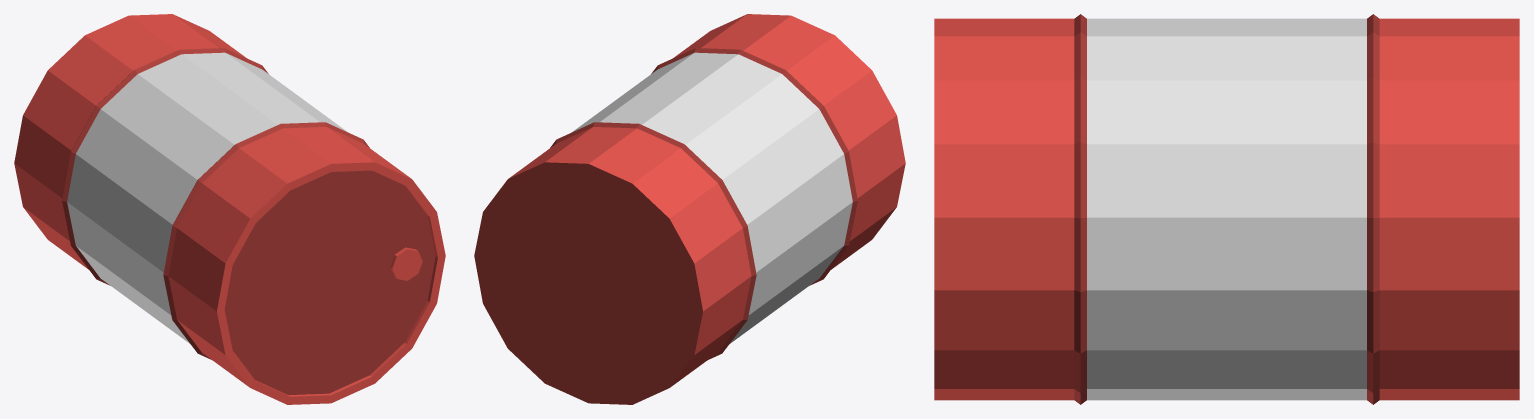
Rendered from obj_barrel.glb.
The picture shows the model from 3 angles, left to right: view 1: azimuth 30°, elevation 25°; view 2: azimuth 150°, elevation 25°; view 3: azimuth 270°, elevation 25°; orthographic projection. The views are drawn at different scales.
Visible parts, largest first — view 1: Cylinder; view 2: Cylinder; view 3: Cylinder.
Part boxes in pixels (<box>): Cylinder: <box>14,14,445,404</box>; Cylinder: <box>474,14,905,404</box>; Cylinder: <box>934,14,1519,404</box>.
Bounding box in the file's own units: 3.07 × 3.07 × 4.6.
